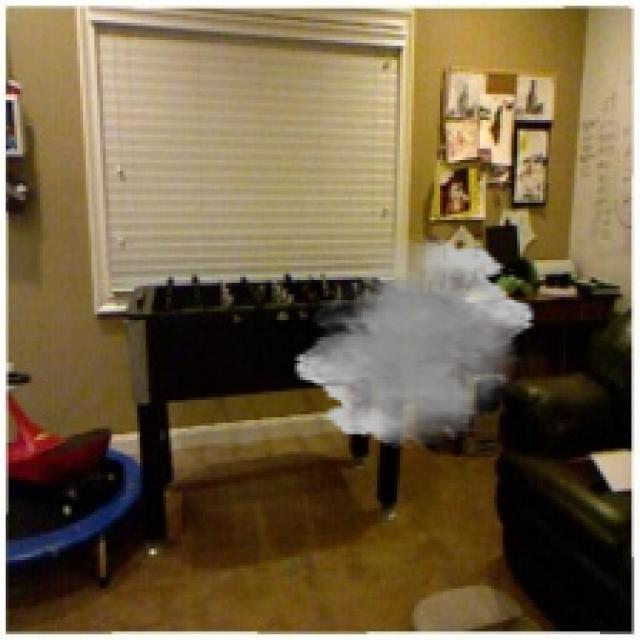Smoke: (292, 234, 537, 449)
